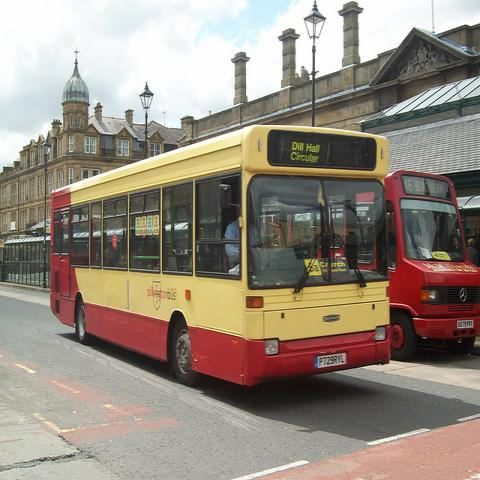bus: (51, 125, 392, 390), (390, 165, 479, 355)
